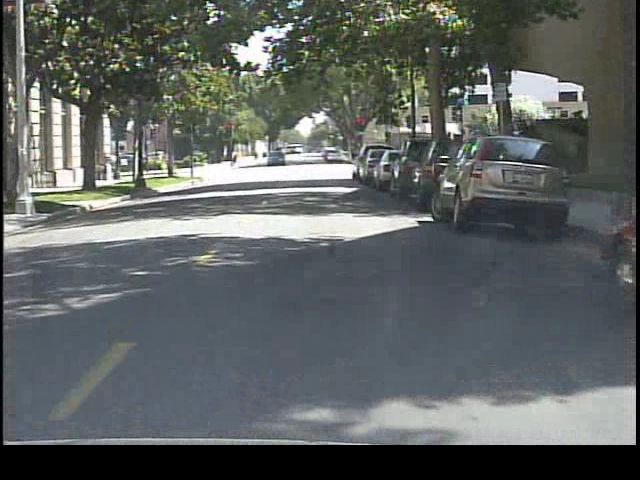person: (229, 142, 242, 168)
